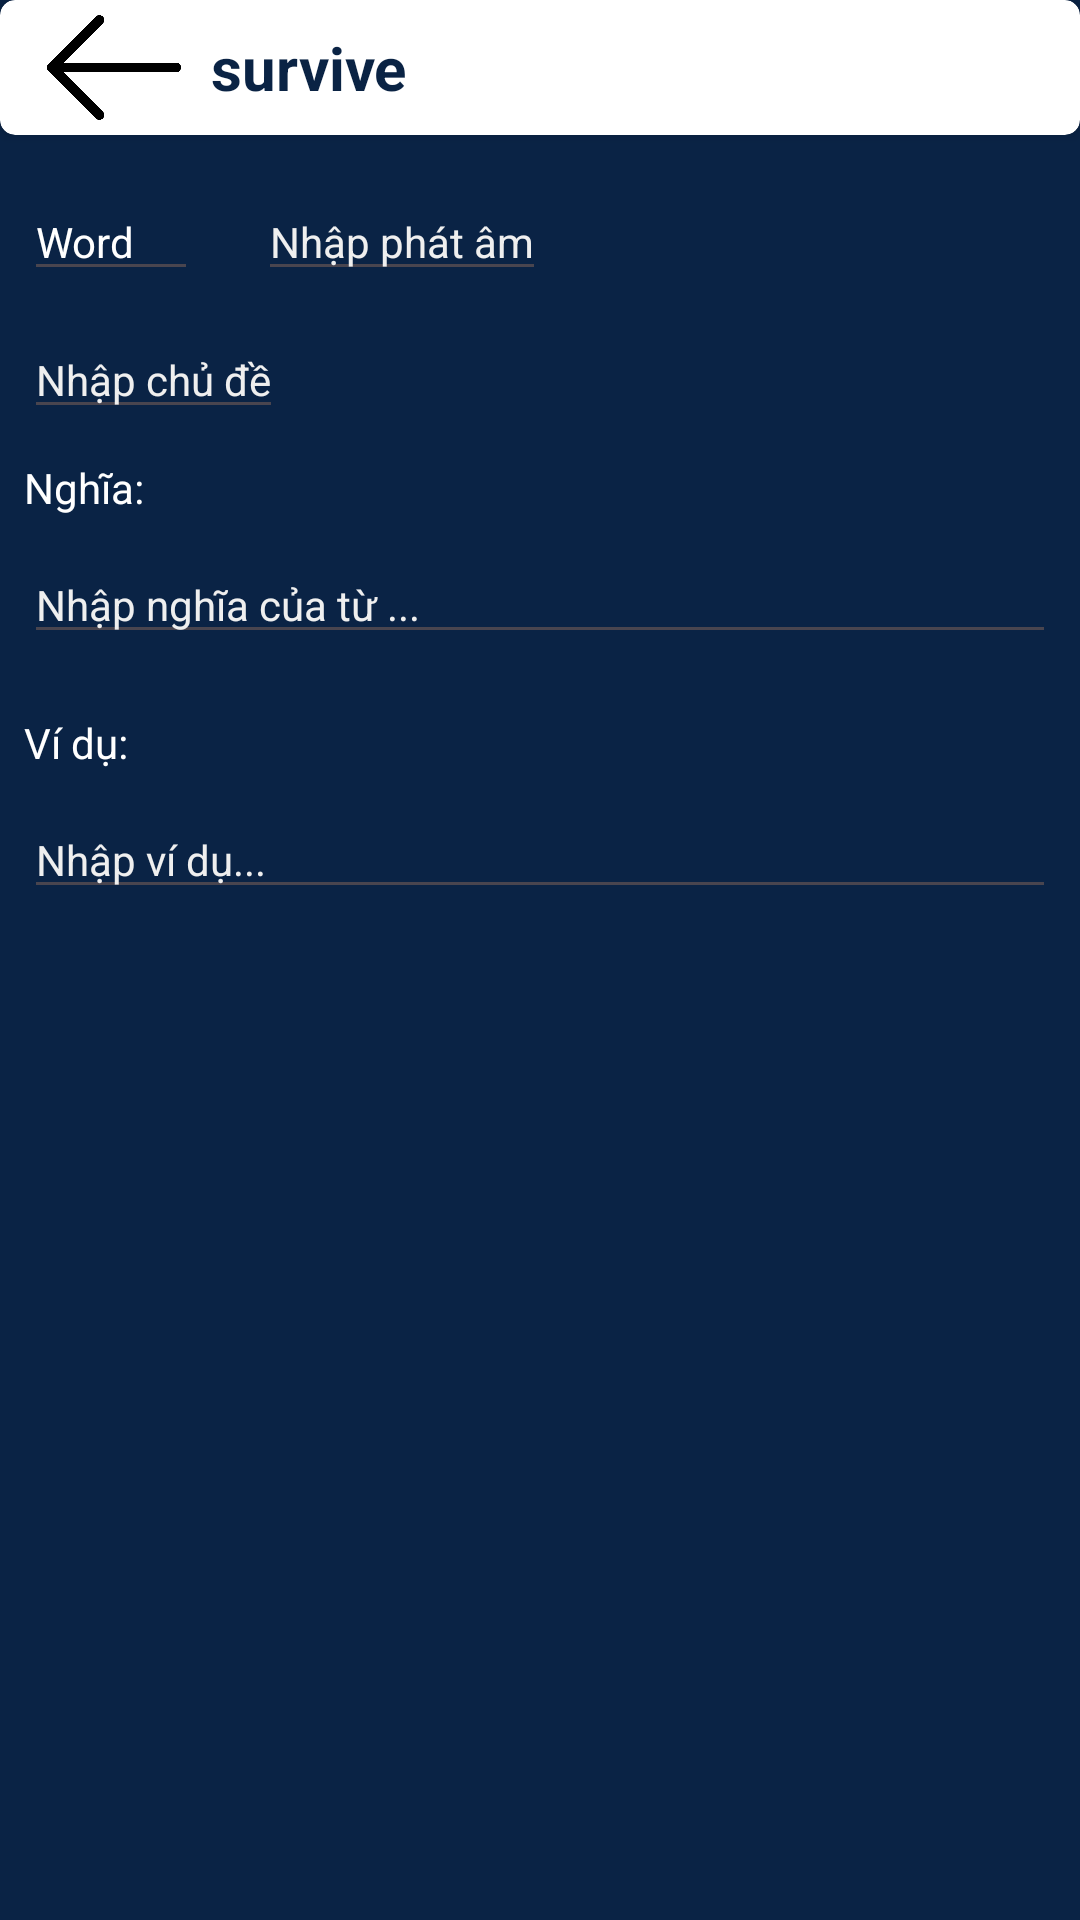

Locate icon controls on the screen. Image size 1080 × 1920, boxes as region(x1, y1, x2, y2).
left arrow: region(47, 15, 181, 120)
